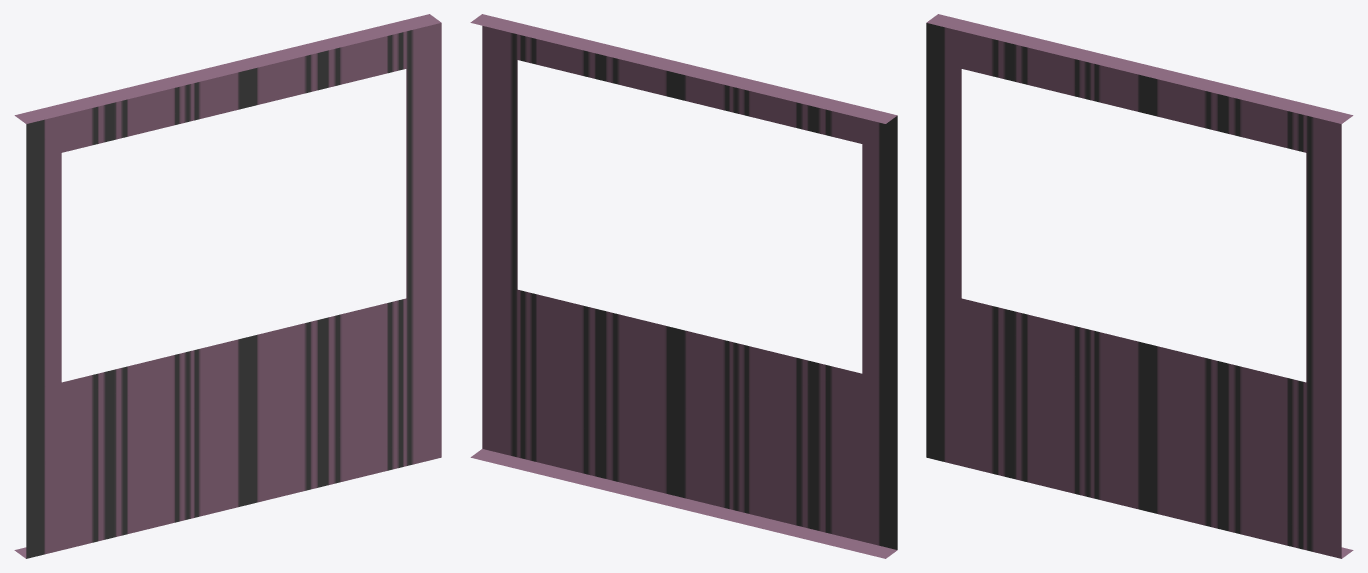
The model's file is Int-V3WindowframeStripes.fbx.
3 renders of one model, left to right at view 1: azimuth 30°, elevation 25°; view 2: azimuth 150°, elevation 25°; view 3: azimuth 330°, elevation 25°, orthographic.
Visible parts, largest first — view 1: Int-V3WindowframeStripes; view 2: Int-V3WindowframeStripes; view 3: Int-V3WindowframeStripes.
Part boxes in pixels (box(x1,y1,x2,y2)): Int-V3WindowframeStripes: box(14, 14, 441, 558); Int-V3WindowframeStripes: box(470, 14, 897, 558); Int-V3WindowframeStripes: box(926, 14, 1353, 558).
Size of the model in its own units: 200 by 200 by 10.
